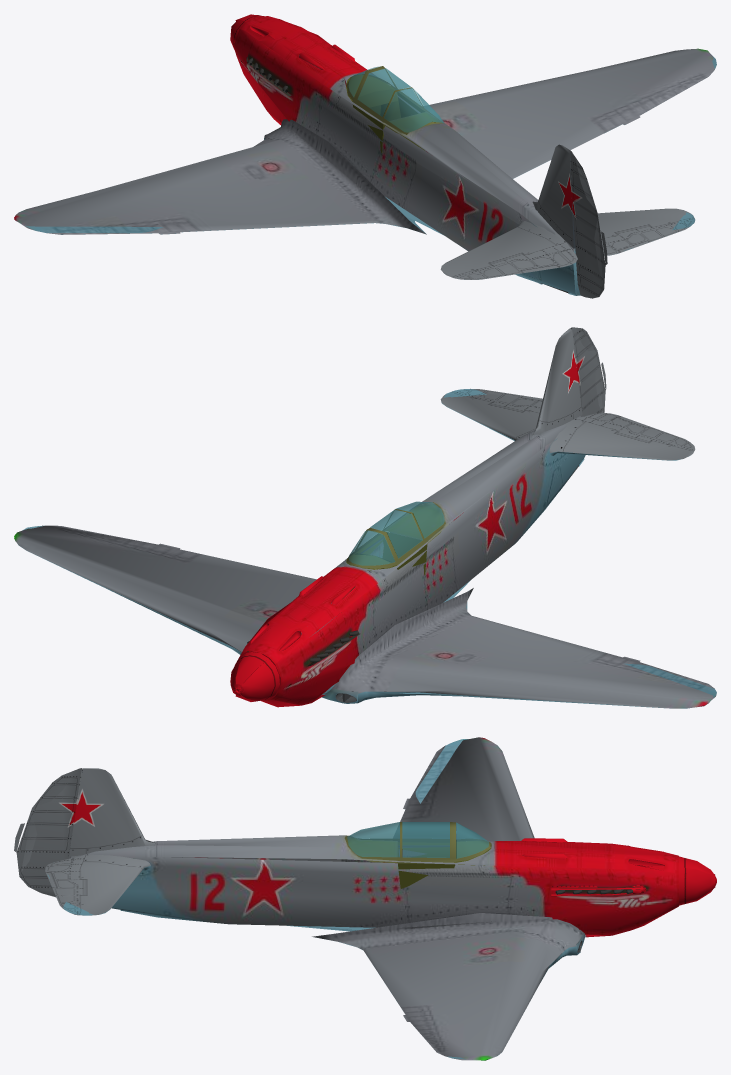
Rendered from Yak3LOD1.glb.
3 renders of one model, top to bottom at view 1: azimuth 30°, elevation 25°; view 2: azimuth 150°, elevation 25°; view 3: azimuth 270°, elevation 25°, orthographic. The views are drawn at different scales.
Parts seen in each view (by area): view 1: Plane01-FACES.001; view 2: Plane01-FACES.001; view 3: Plane01-FACES.001.
Part boxes in pixels (x1,y1,x2,y2): Plane01-FACES.001: (14, 14, 716, 298); Plane01-FACES.001: (14, 327, 716, 708); Plane01-FACES.001: (14, 737, 716, 1060).
Bounding box in the file's own units: 13.74 × 3.36 × 12.69.
Materials: 13 (11 with a texture image).
